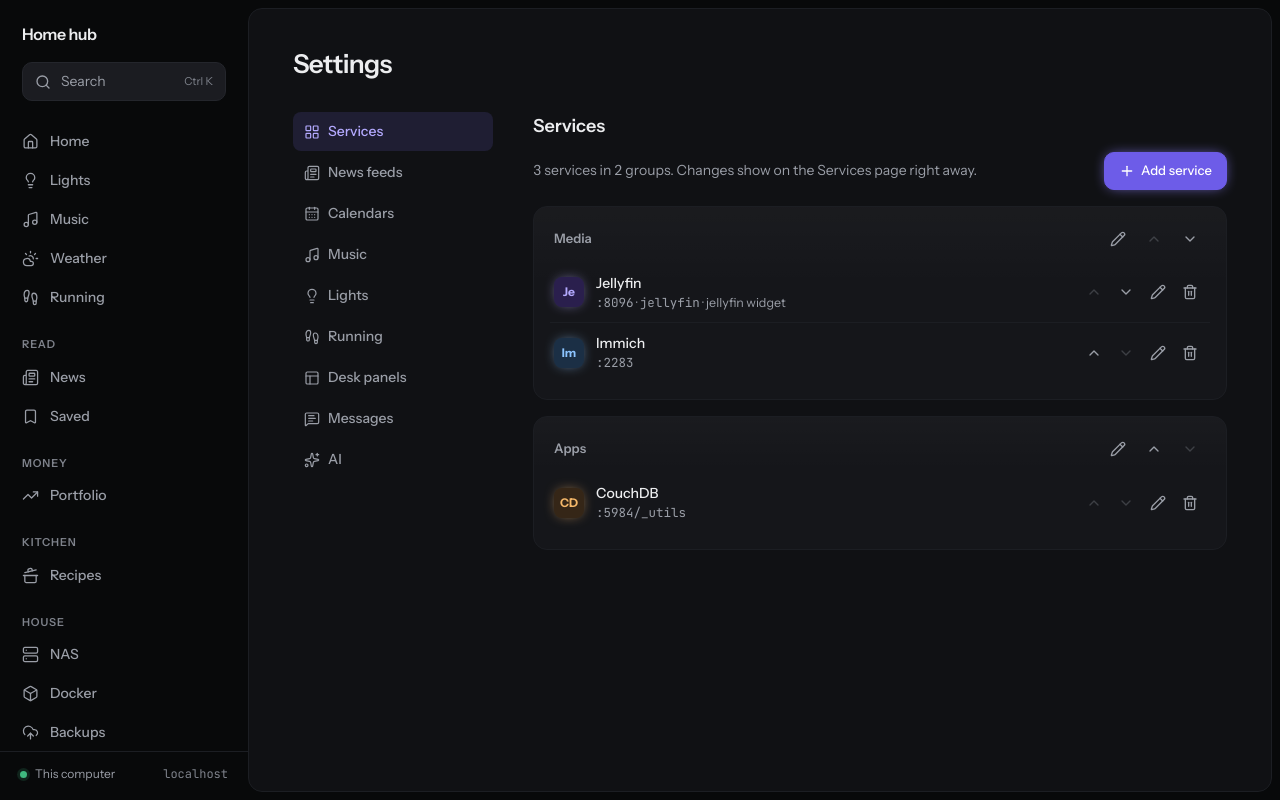
Test: SettingsPage services › renames a group
Click the button named "Rename group Apps" at (1118, 449), box [1102,433,1134,465]
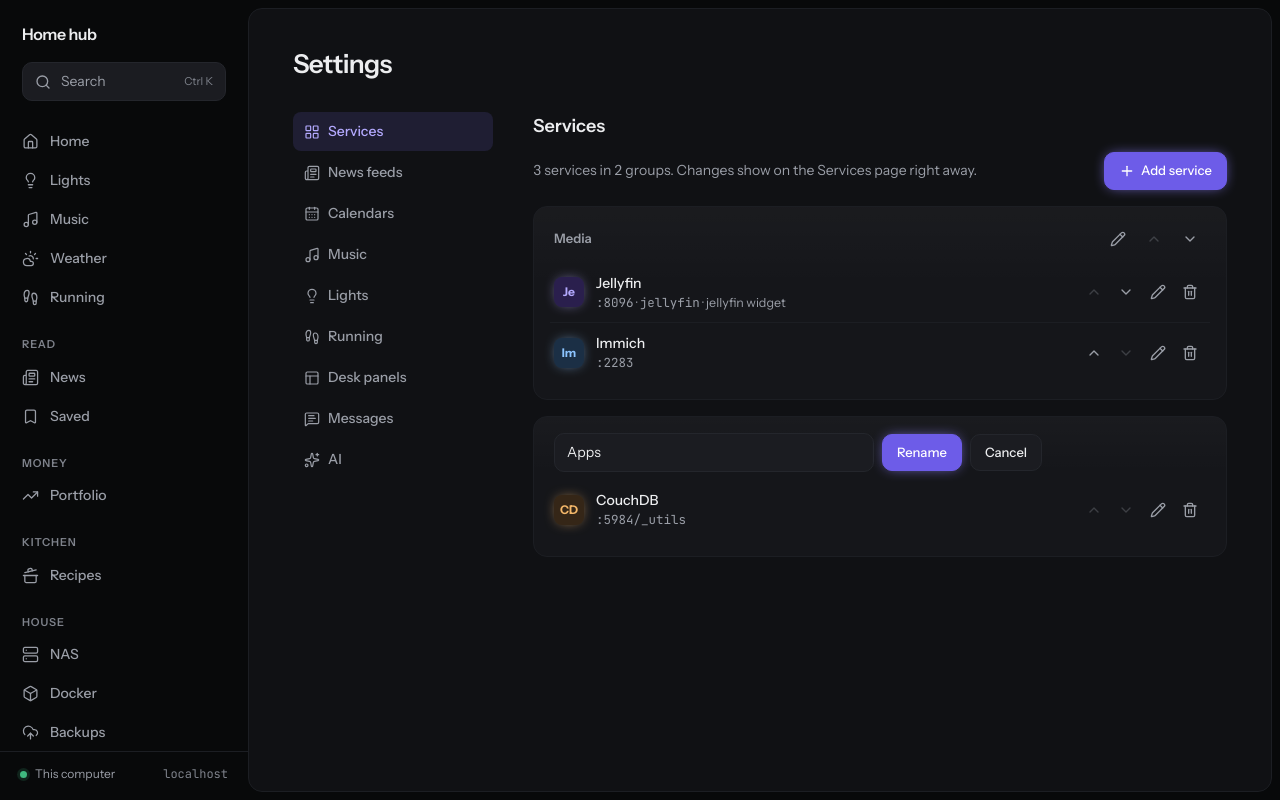
Replace the text in the field named "Group name" with "Tools" at (714, 452), box [554,433,874,472]
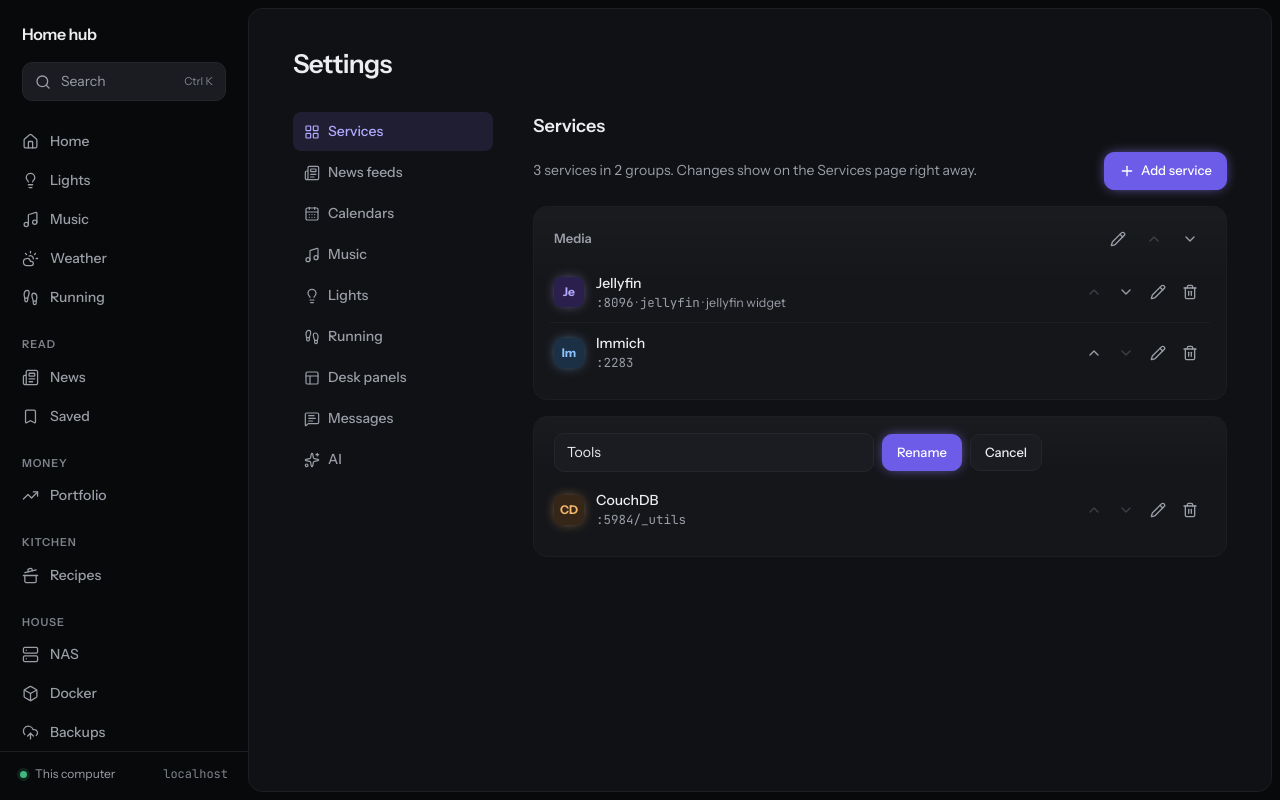
Submit the form named "Rename group Apps", box [554,433,1042,472]
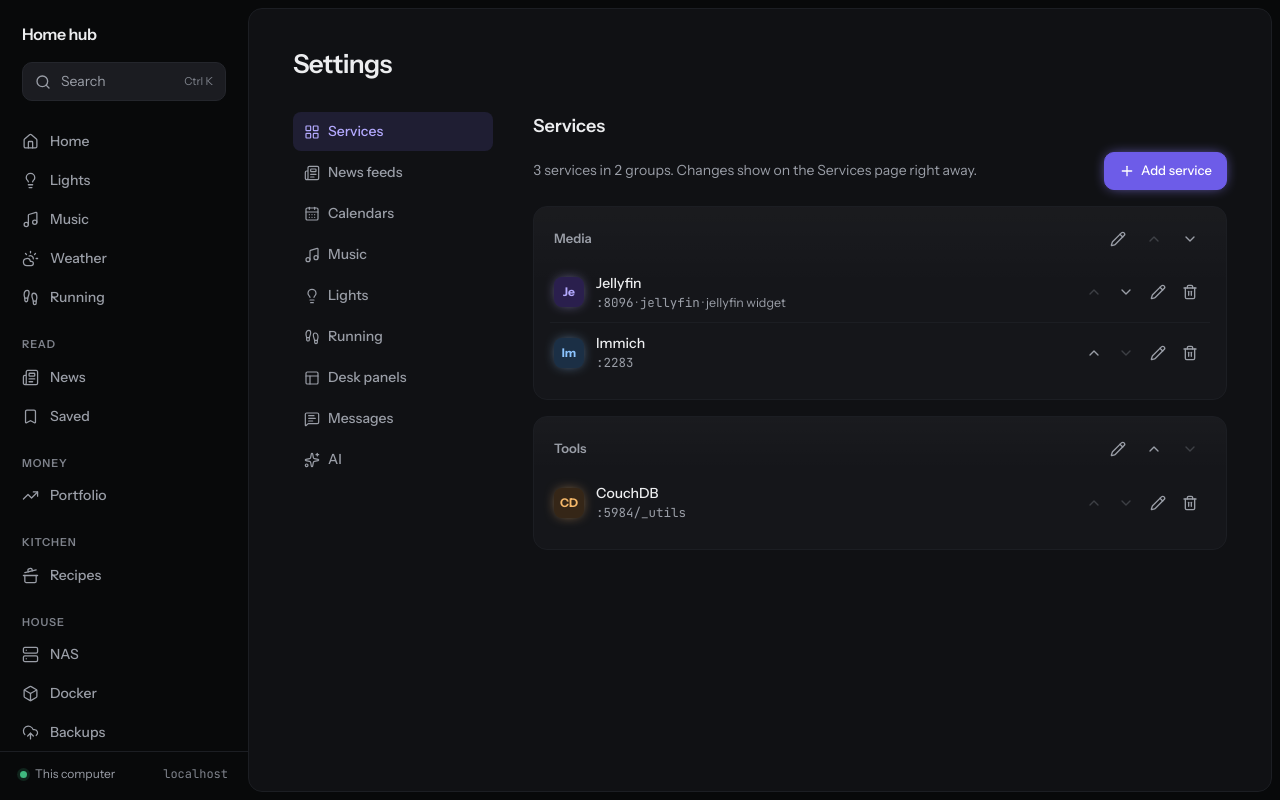
expect the element "Tools" is shown: met, box [533,416,1227,550]
